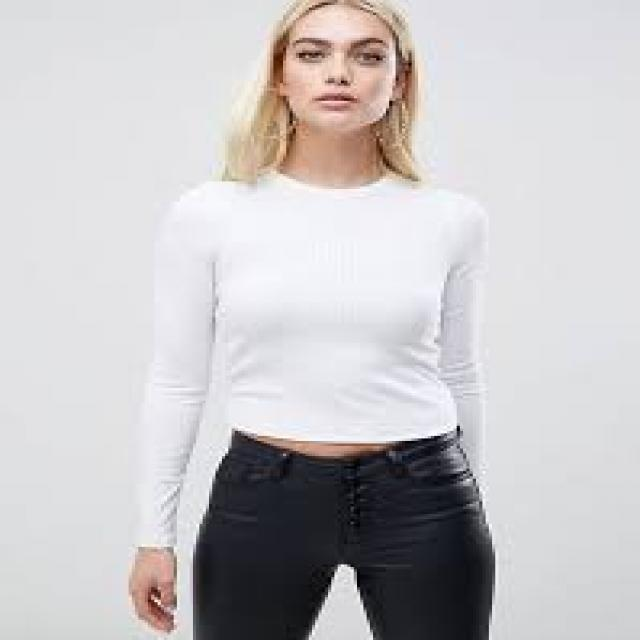plain: (98, 159, 580, 489)
